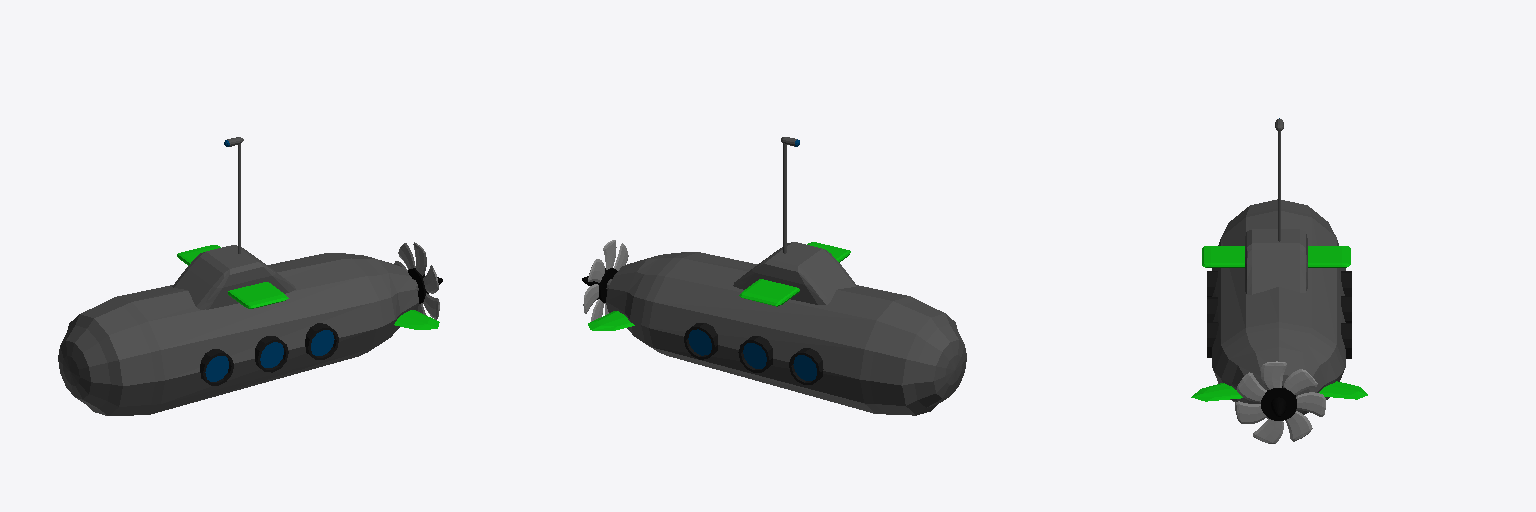
The model's file is Submarine_1360.obj.
3 views of the same model, side by side, from view 1: azimuth 30°, elevation 25°; view 2: azimuth 150°, elevation 25°; view 3: azimuth 270°, elevation 25° (orthographic).
Visible parts, largest first — view 1: Cylinder003; view 2: Cylinder003; view 3: Cylinder003.
Part boxes in pixels (x1,y1,x2,y2): Cylinder003: (58, 137, 442, 415); Cylinder003: (582, 137, 966, 415); Cylinder003: (1191, 118, 1367, 443).
Size of the model in its own units: 67.01 by 42.37 by 27.66.